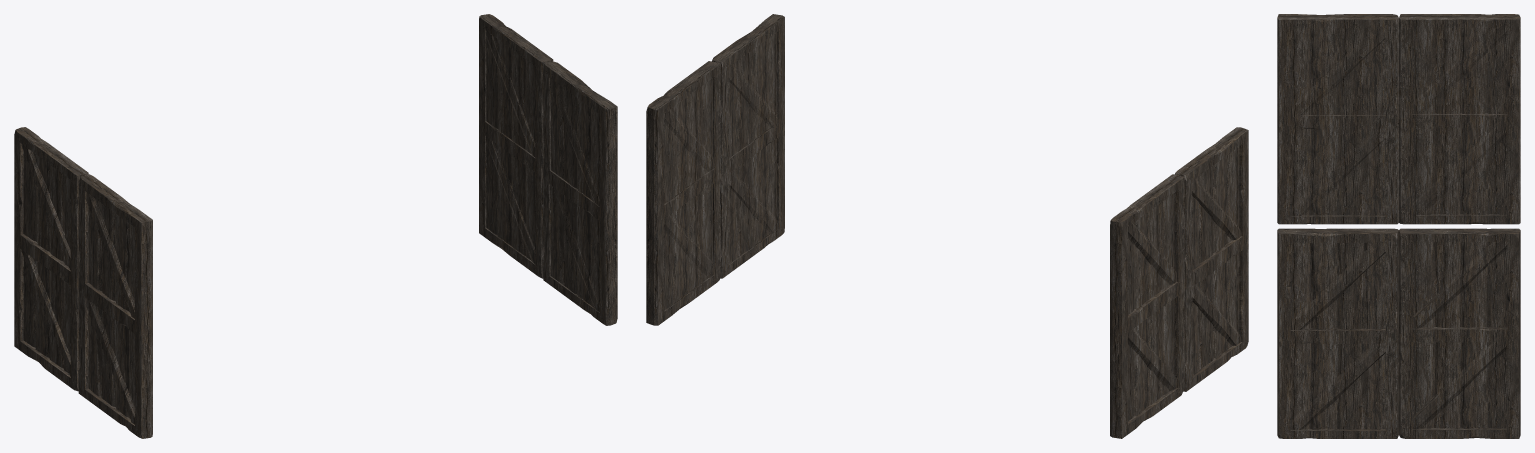
Rendered from BarnDark_DoorLeaves_Optional.glb.
3 views of the same model, side by side, from view 1: azimuth 30°, elevation 25°; view 2: azimuth 150°, elevation 25°; view 3: azimuth 270°, elevation 25° (orthographic). The views are drawn at different scales.
Parts seen in each view (by area): view 1: HW_Dark_SM_Bld_Barn_03_Door_03_Export, HW_Dark_SM_Bld_Barn_03_Door_01_Export, HW_Dark_SM_Bld_Barn_03_Door_02_Export, HW_Dark_SM_Bld_Barn_03_Door_04_Export; view 2: HW_Dark_SM_Bld_Barn_03_Door_04_Export, HW_Dark_SM_Bld_Barn_03_Door_02_Export, HW_Dark_SM_Bld_Barn_03_Door_01_Export, HW_Dark_SM_Bld_Barn_03_Door_03_Export; view 3: HW_Dark_SM_Bld_Barn_03_Door_04_Export, HW_Dark_SM_Bld_Barn_03_Door_01_Export, HW_Dark_SM_Bld_Barn_03_Door_02_Export, HW_Dark_SM_Bld_Barn_03_Door_03_Export.
Boxes of the visible parts, x1,y1,x2,y2 form: HW_Dark_SM_Bld_Barn_03_Door_03_Export: [543, 61, 617, 325]; HW_Dark_SM_Bld_Barn_03_Door_01_Export: [78, 174, 152, 438]; HW_Dark_SM_Bld_Barn_03_Door_02_Export: [14, 127, 88, 391]; HW_Dark_SM_Bld_Barn_03_Door_04_Export: [479, 14, 553, 278]; HW_Dark_SM_Bld_Barn_03_Door_04_Export: [646, 61, 720, 325]; HW_Dark_SM_Bld_Barn_03_Door_02_Export: [1110, 174, 1184, 438]; HW_Dark_SM_Bld_Barn_03_Door_01_Export: [1175, 127, 1248, 391]; HW_Dark_SM_Bld_Barn_03_Door_03_Export: [712, 14, 784, 278]; HW_Dark_SM_Bld_Barn_03_Door_04_Export: [1399, 228, 1520, 438]; HW_Dark_SM_Bld_Barn_03_Door_01_Export: [1277, 14, 1398, 224]; HW_Dark_SM_Bld_Barn_03_Door_02_Export: [1399, 14, 1520, 224]; HW_Dark_SM_Bld_Barn_03_Door_03_Export: [1277, 228, 1398, 438].
Size of the model in its own units: 17.28 by 7.5 by 8.08.
1 material, 1 textured.
